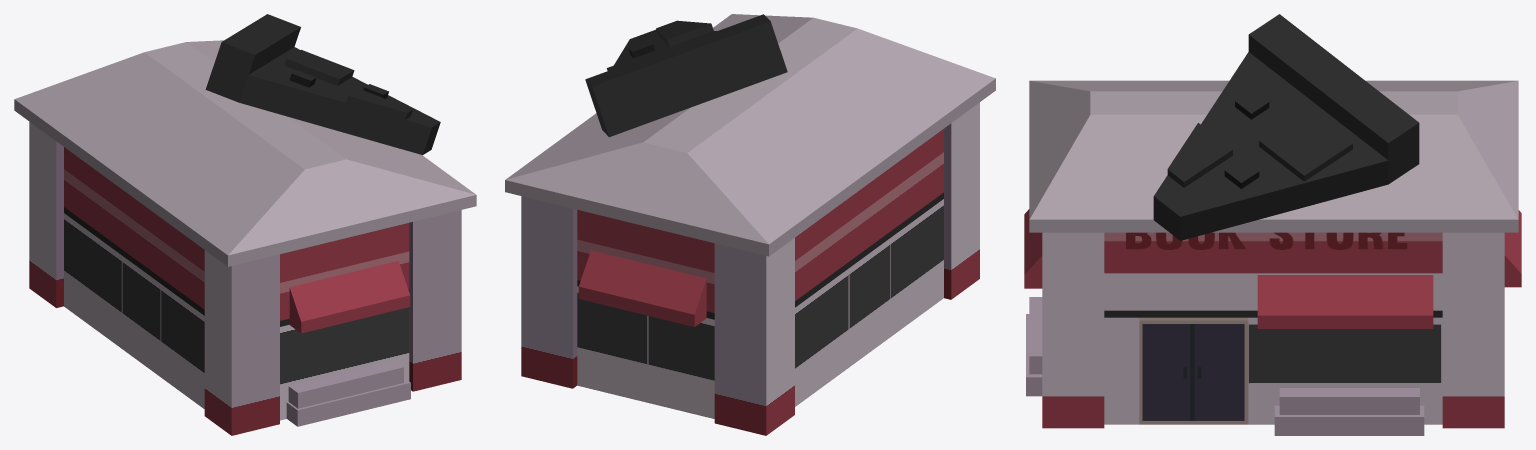
3 views of the same model, side by side, from view 1: azimuth 30°, elevation 25°; view 2: azimuth 150°, elevation 25°; view 3: azimuth 270°, elevation 25° (orthographic). The views are drawn at different scales.
Parts seen in each view (by area): view 1: pizza_shop; view 2: pizza_shop; view 3: pizza_shop.
Part boxes in pixels (box(x1,y1,x2,y2)): pizza_shop: box(14, 14, 476, 435); pizza_shop: box(505, 14, 995, 435); pizza_shop: box(1024, 14, 1521, 435).
Size of the model in its own units: 0.1354 by 0.1371 by 0.1828.
1 material, 1 textured.
